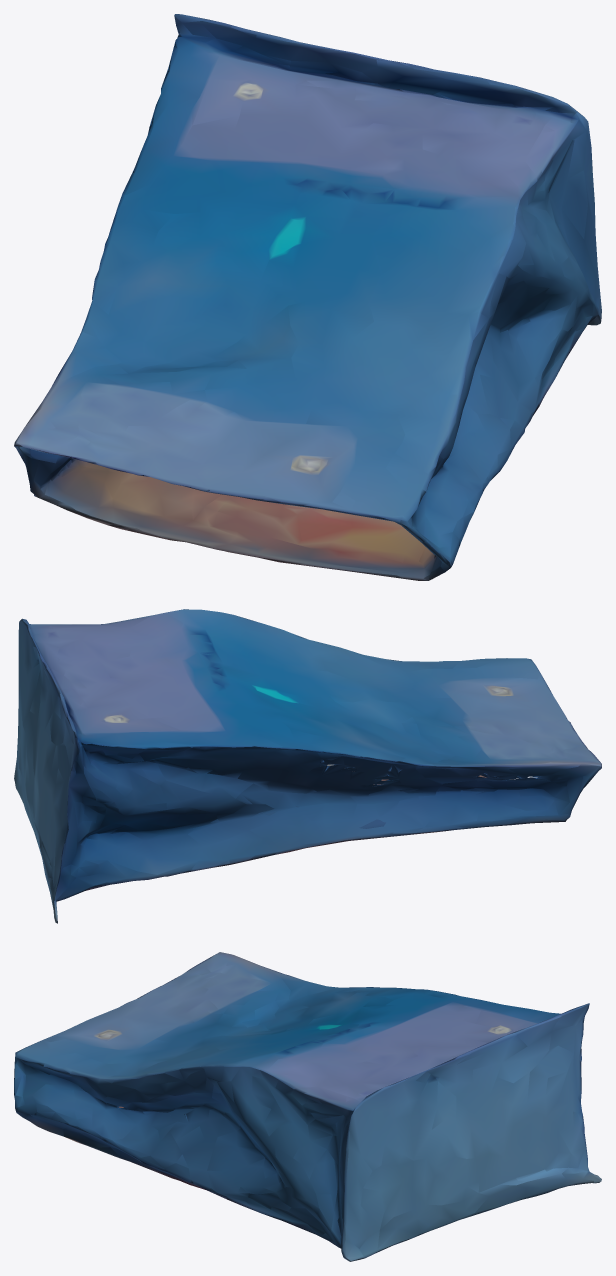
Rendered from 0000_mask_001_blue_coffee_bag.glb.
3 renders of one model, top to bottom at view 1: azimuth 30°, elevation 25°; view 2: azimuth 150°, elevation 25°; view 3: azimuth 270°, elevation 25°, orthographic. The views are drawn at different scales.
Parts seen in each view (by area): view 1: mask_001_object; view 2: mask_001_object; view 3: mask_001_object.
Part boxes in pixels (x1,y1,x2,y2): mask_001_object: (14, 14, 601, 580); mask_001_object: (14, 609, 601, 923); mask_001_object: (14, 952, 601, 1261).
Bounding box in the file's own units: 0.533 × 0.1877 × 0.5742.
